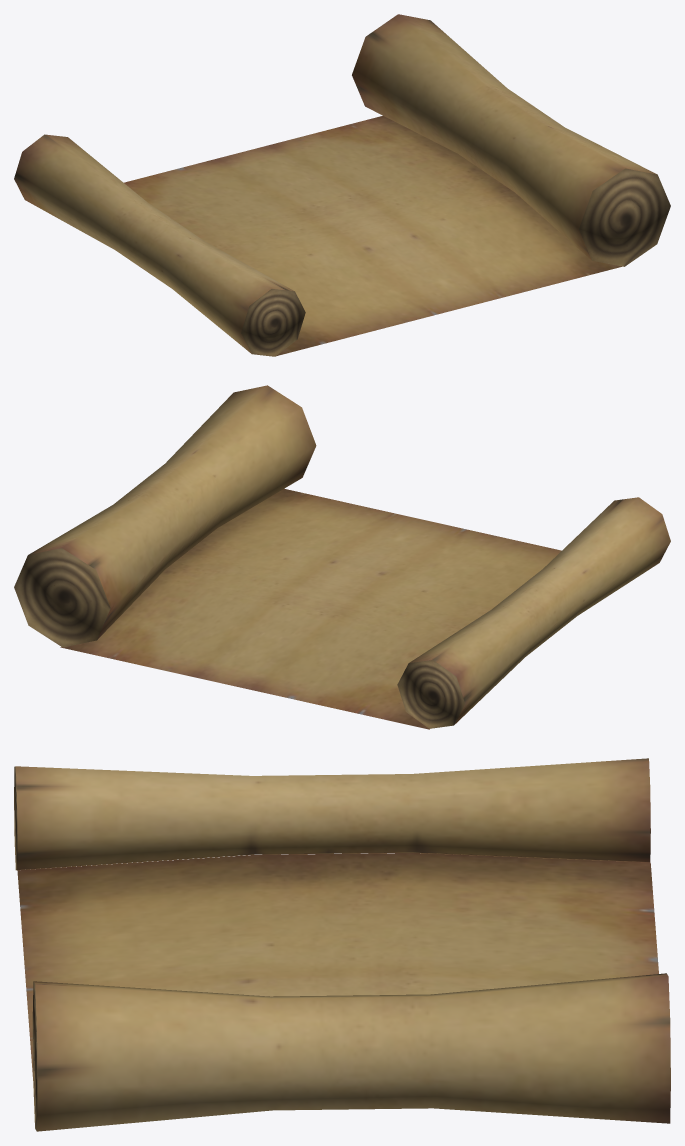
File: roll_open_002.fbx
3 views of the same model, one above another, from view 1: azimuth 30°, elevation 25°; view 2: azimuth 150°, elevation 25°; view 3: azimuth 270°, elevation 25° (orthographic). The views are drawn at different scales.
Parts seen in each view (by area): view 1: roll; view 2: roll; view 3: roll.
Part boxes in pixels (left/top/right/bottom): roll: left=14, top=14, right=670, bottom=356; roll: left=14, top=385, right=670, bottom=729; roll: left=14, top=758, right=670, bottom=1131.
Size of the model in its own units: 30.91 by 6.48 by 26.57.
